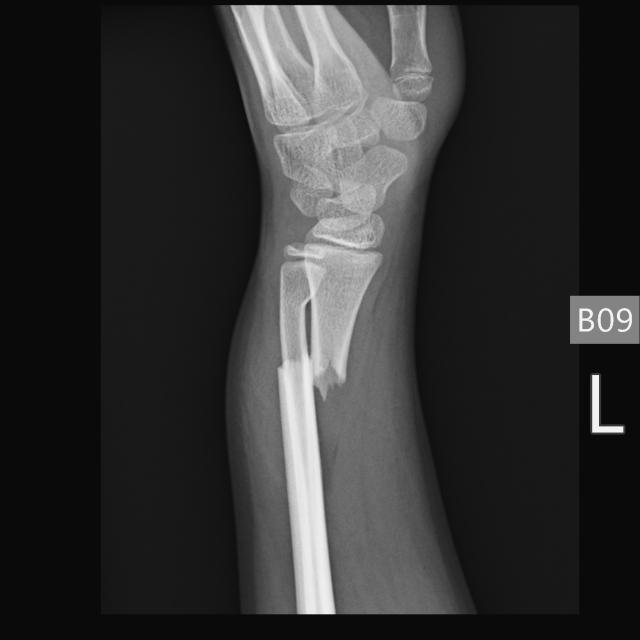fractured: (265, 342, 383, 424)
